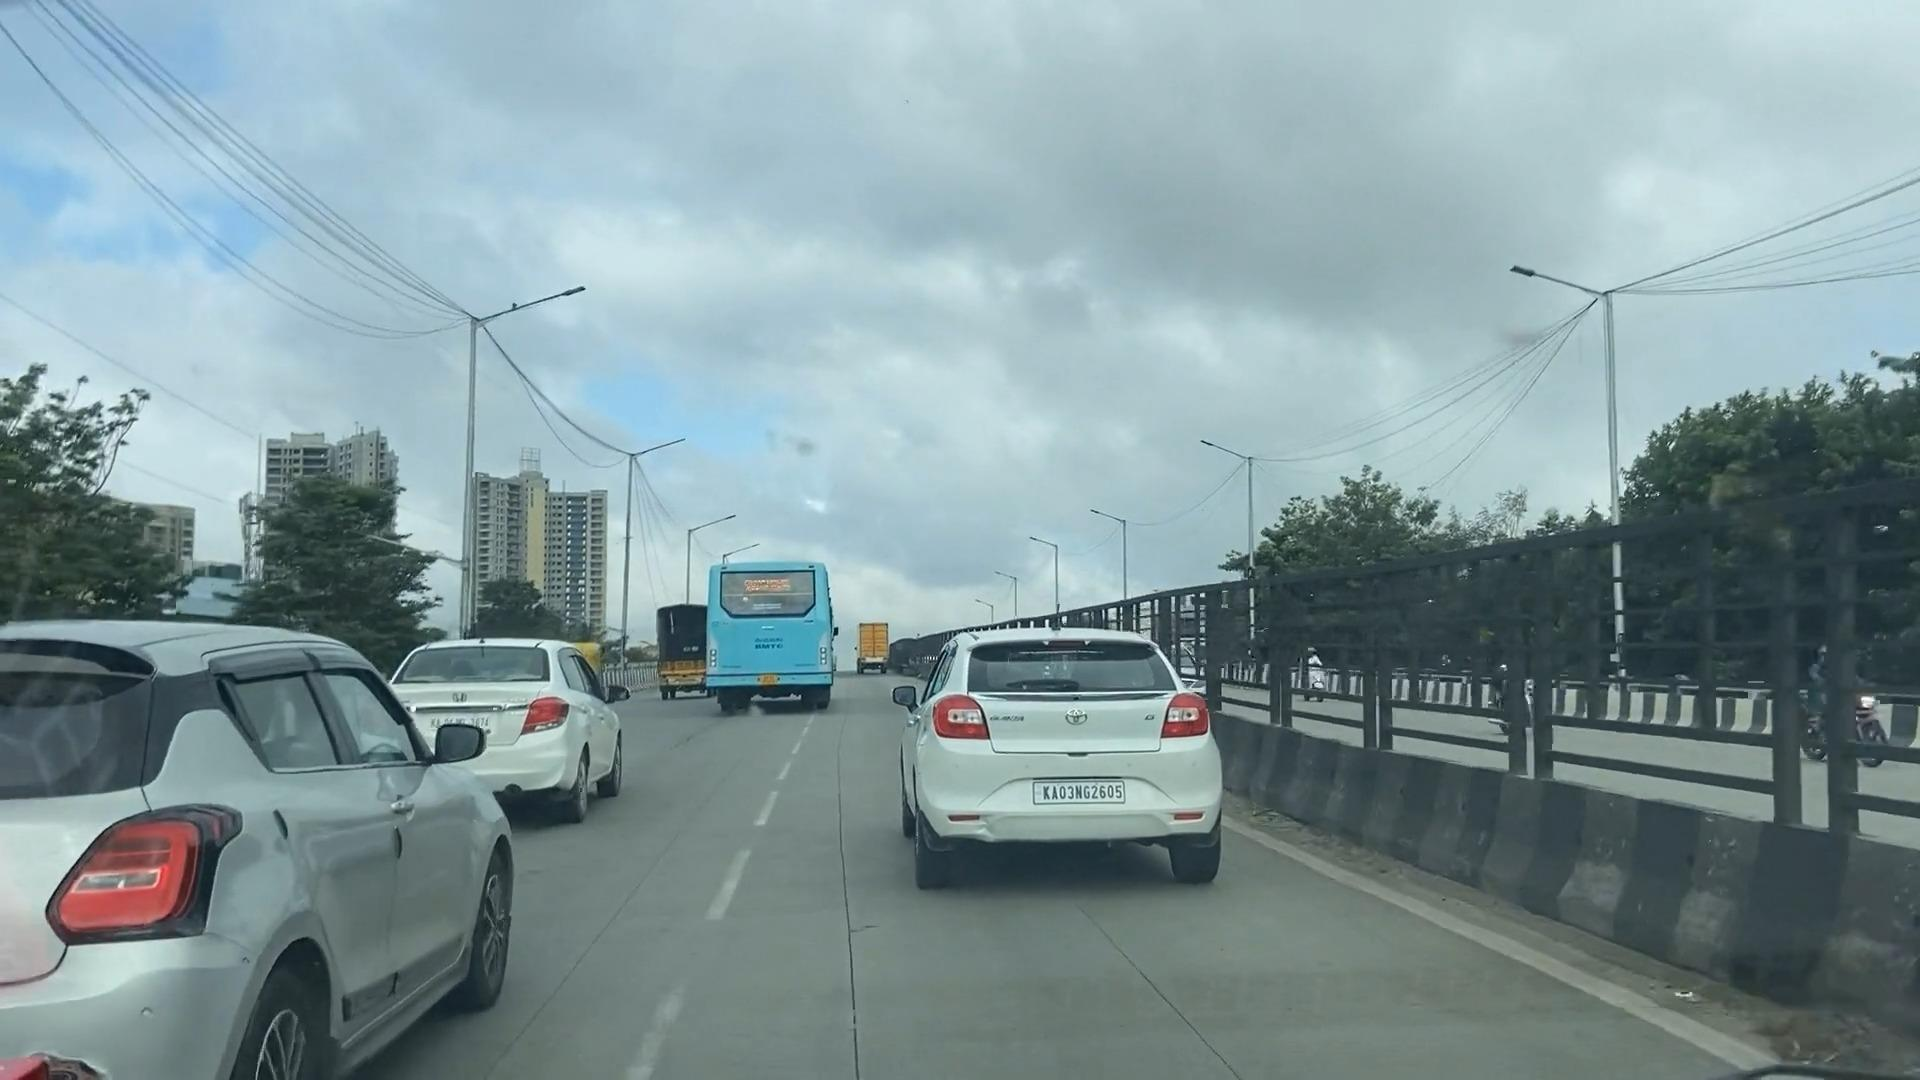HMV: (699, 550, 841, 740)
LMV: (0, 564, 669, 1080), (862, 616, 1265, 911)
